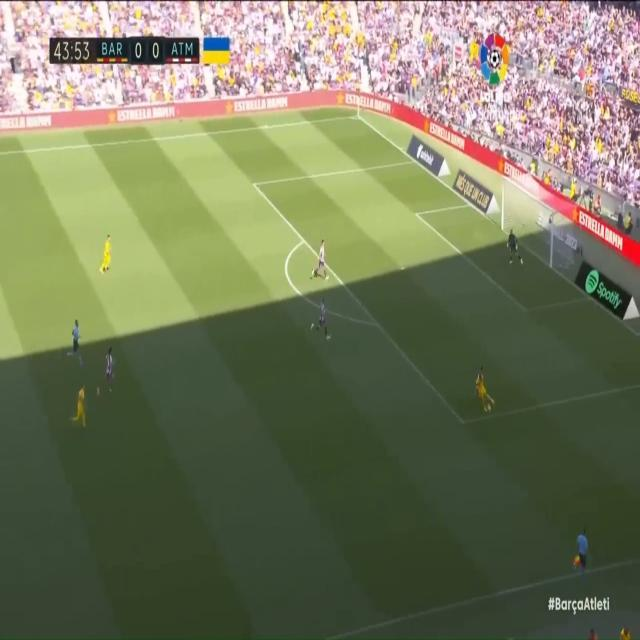ball: (485, 396, 492, 418)
goalkeeper: (502, 227, 526, 284)
player: (97, 349, 121, 405), (309, 299, 333, 343), (72, 381, 91, 433), (98, 226, 116, 280), (311, 236, 331, 278), (478, 376, 494, 411), (475, 366, 485, 395)
referee: (67, 317, 88, 374), (571, 528, 589, 572)
